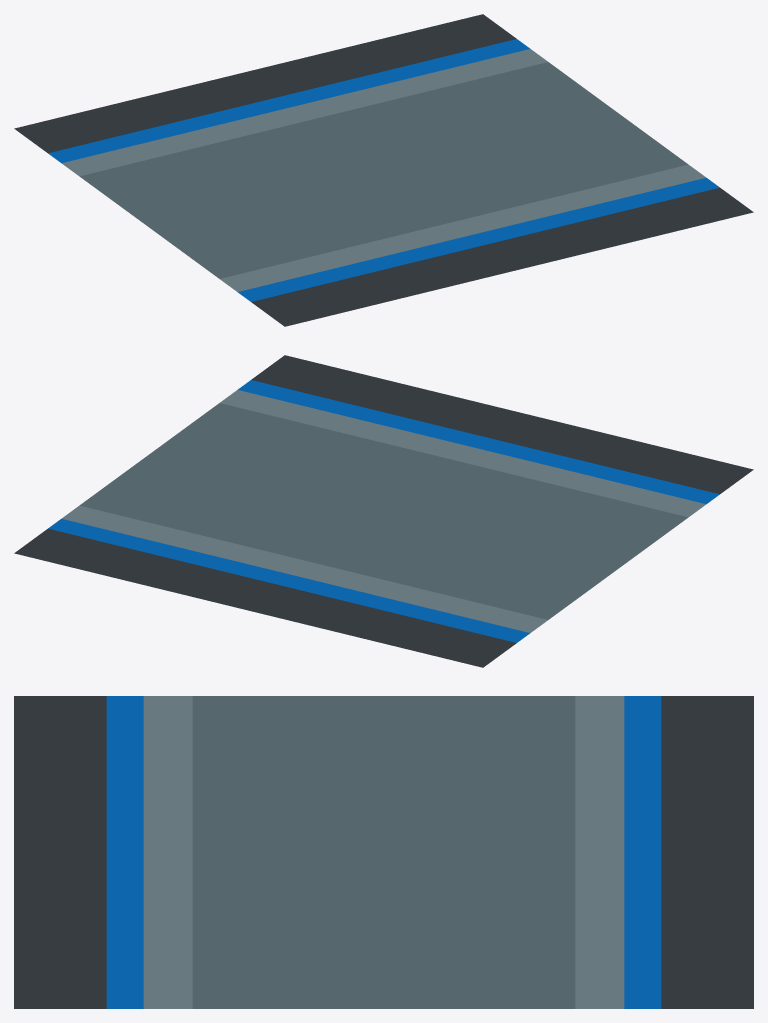
Rendered from Ceiling_type_C_030.fbx.
The picture shows the model from 3 angles, top to bottom: view 1: azimuth 30°, elevation 25°; view 2: azimuth 150°, elevation 25°; view 3: azimuth 270°, elevation 25°; orthographic projection. The views are drawn at different scales.
Parts seen in each view (by area): view 1: Ceiling_type_C_030; view 2: Ceiling_type_C_030; view 3: Ceiling_type_C_030.
Boxes of the visible parts, x1,y1,x2,y2 form: Ceiling_type_C_030: (14, 14, 753, 326); Ceiling_type_C_030: (14, 355, 753, 667); Ceiling_type_C_030: (14, 696, 753, 1008).
Bounding box in the file's own units: 400 × 400 × 6.18.
